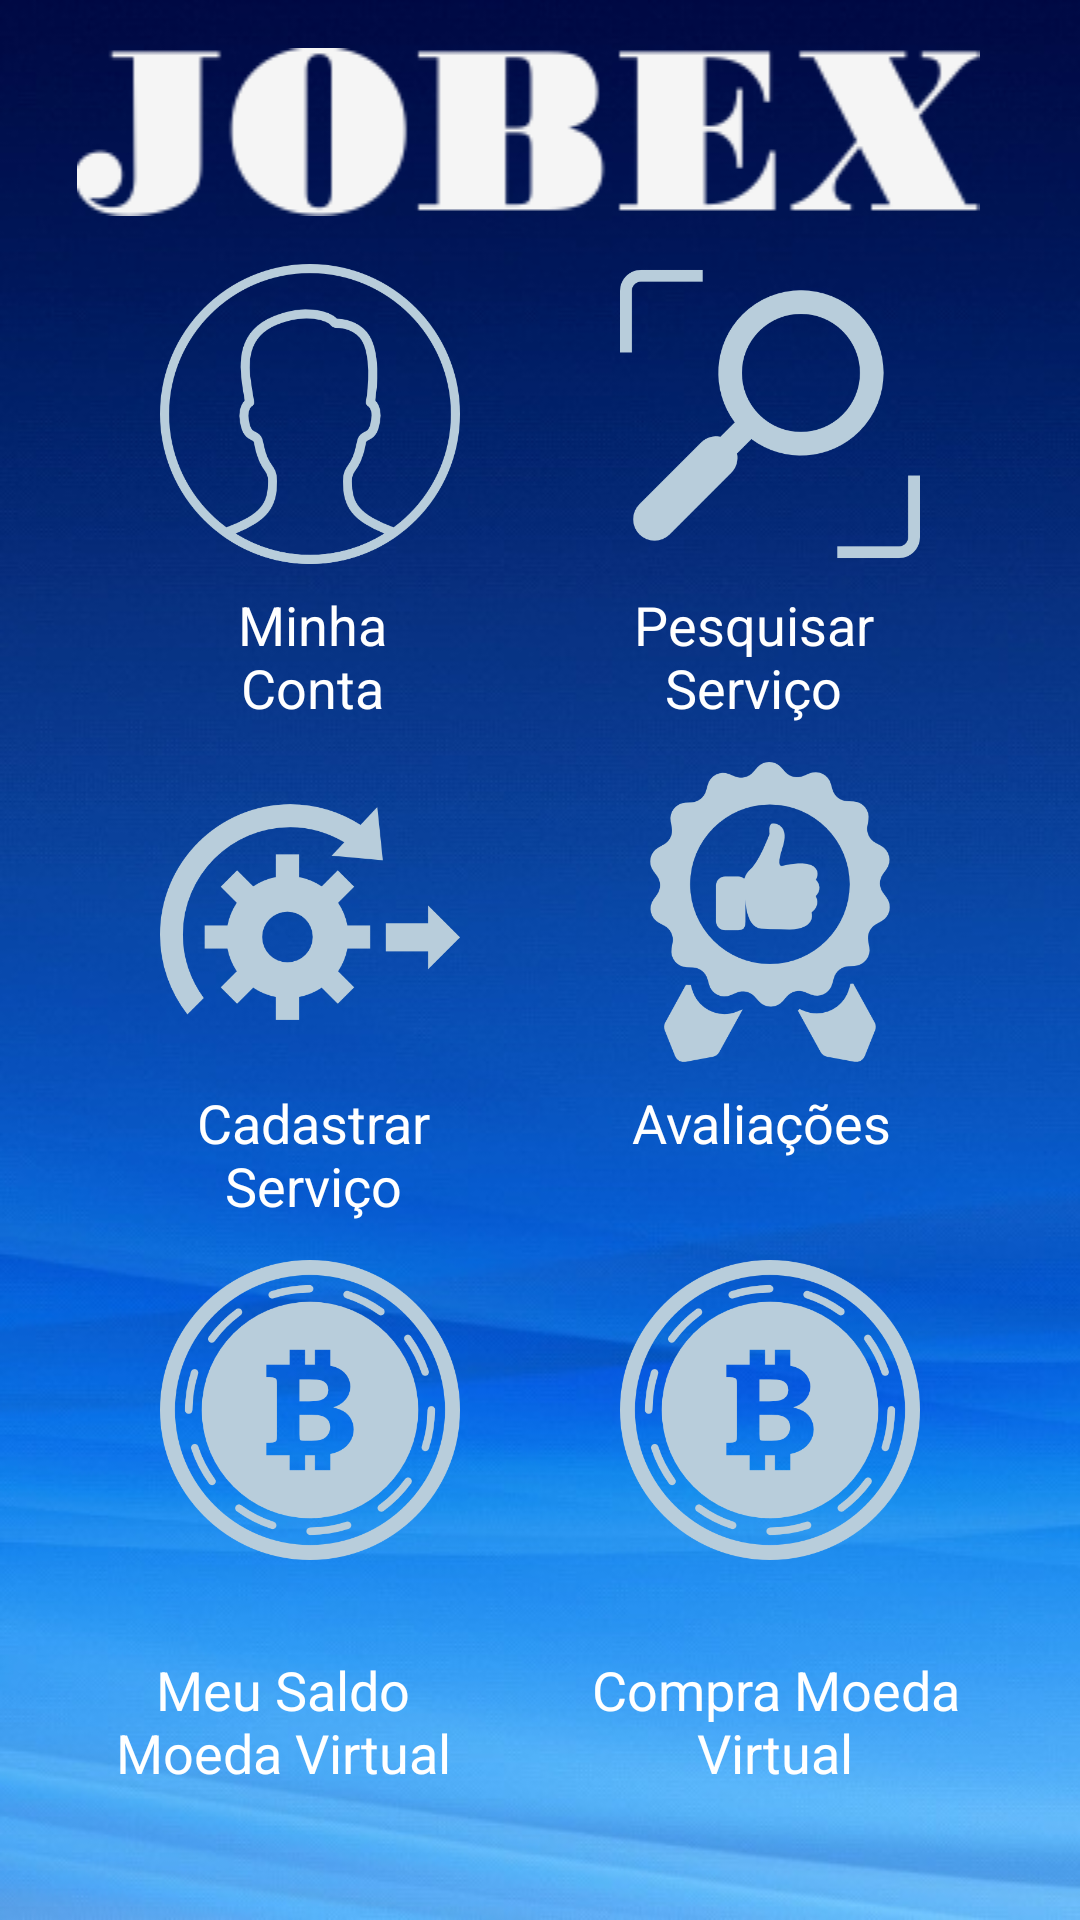

Named icons in this screenshot (1080*1920) and their centers, [x,y]:
badge: [770,912]
development: [310,912]
man: [310,414]
